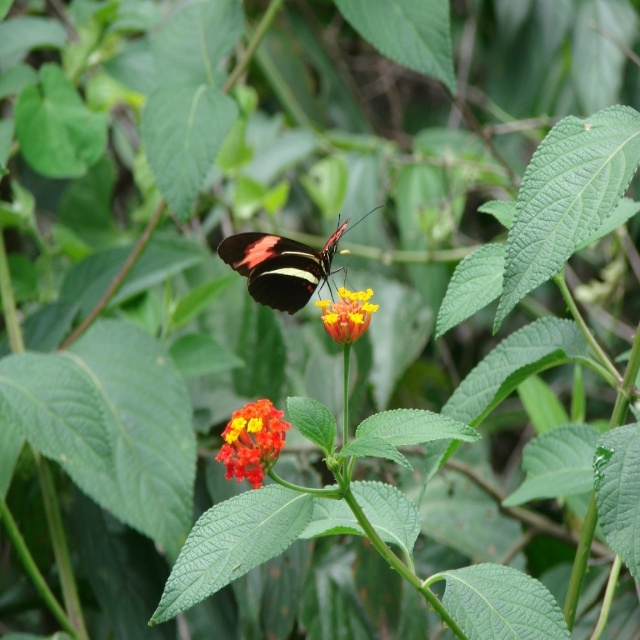Butterfly: (217, 203, 386, 317)
